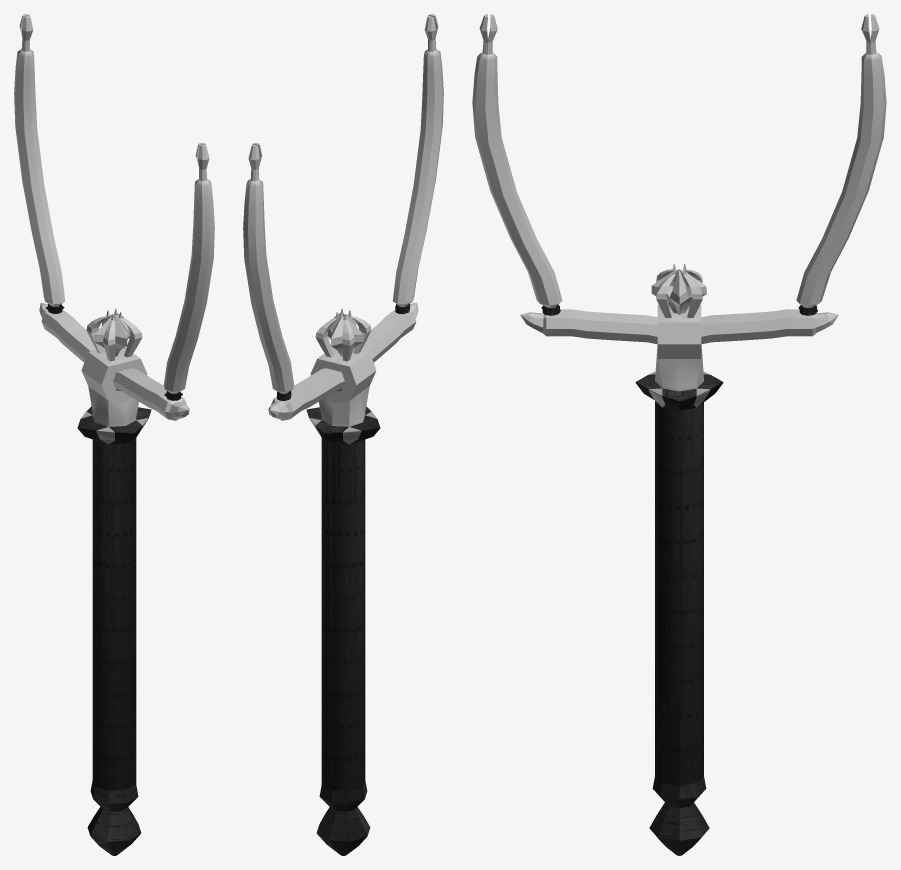
File: Slingshot.fbx
The picture shows the model from 3 angles, left to right: view 1: azimuth 30°, elevation 25°; view 2: azimuth 150°, elevation 25°; view 3: azimuth 270°, elevation 25°; orthographic projection. The views are drawn at different scales.
Visible parts, largest first — view 1: Pummel, Arms; view 2: Pummel, Arms; view 3: Pummel, Arms.
Part boxes in pixels (x1=…): Pummel: x1=77, y1=308, x2=151, y2=855; Arms: x1=14, y1=14, x2=214, y2=420; Pummel: x1=306, y1=308, x2=380, y2=855; Arms: x1=243, y1=14, x2=443, y2=420; Pummel: x1=635, y1=263, x2=723, y2=855; Arms: x1=472, y1=14, x2=886, y2=344.
Size of the model in its own units: 0.0377 by 0.379 by 0.1696.
